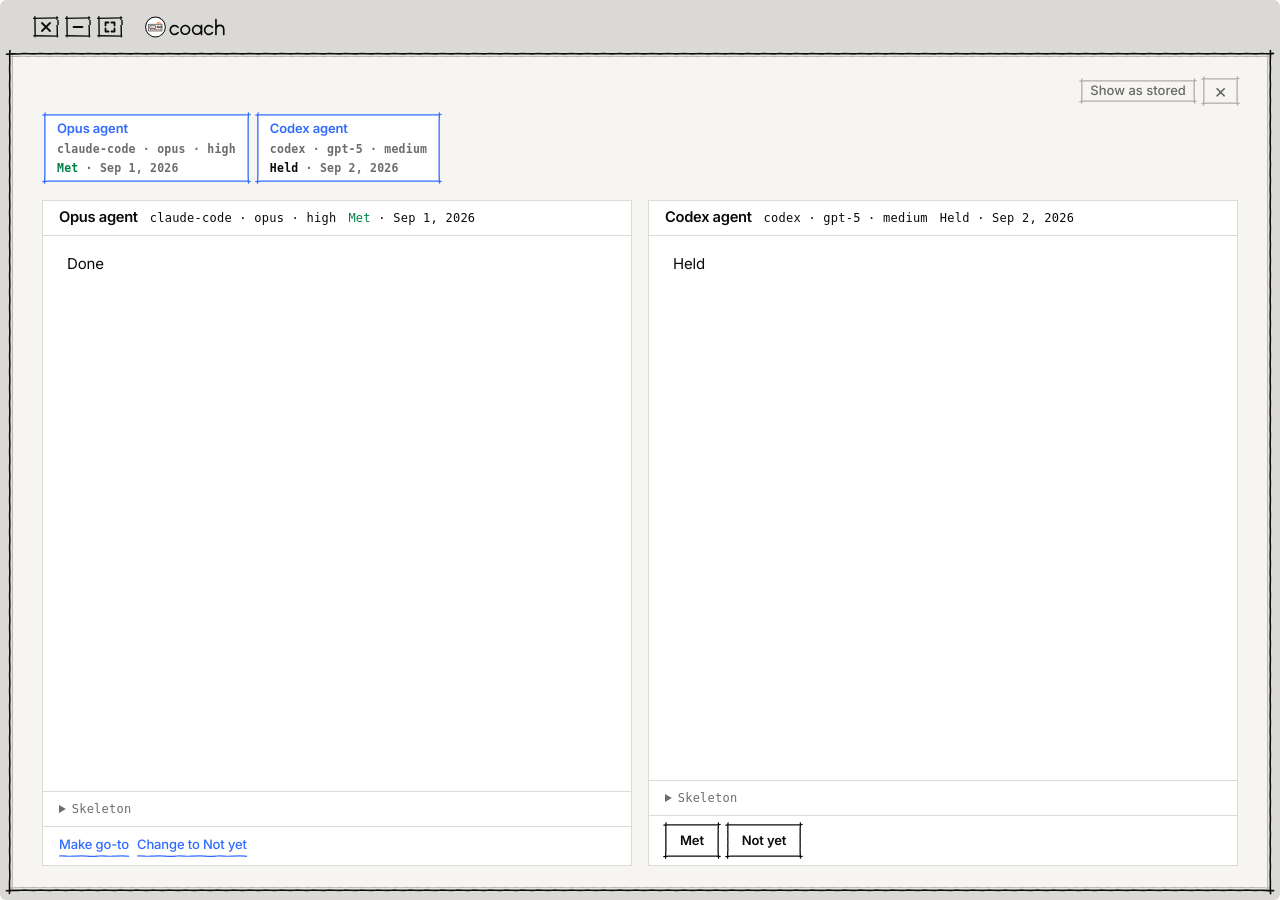
Test: CompareView under a strip › Not yet on a held reply records Not met and offers no go-to
The image size is (1280, 900).
Click the button "Not yet": (764, 840) left=727, top=824, right=801, bottom=857
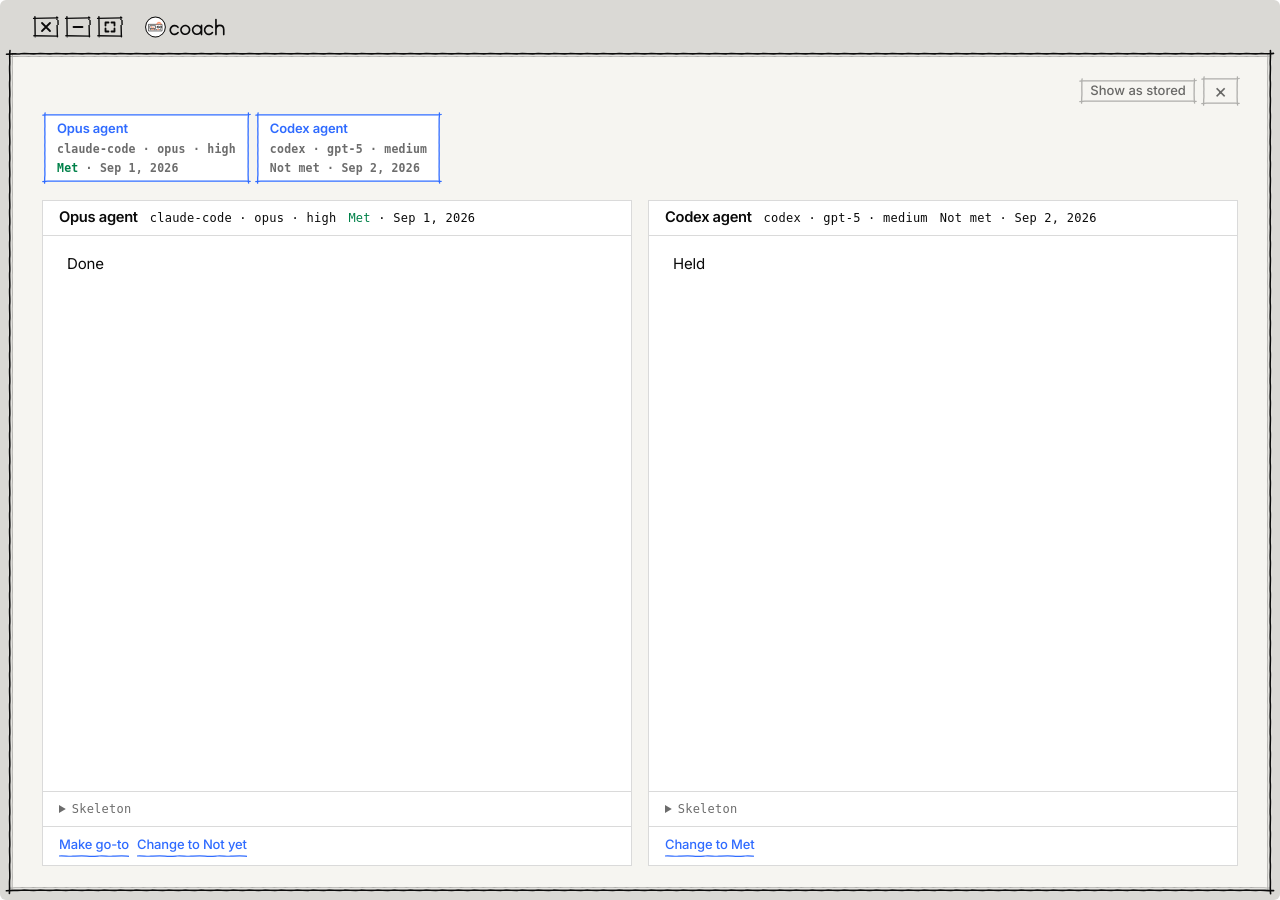
Result: the 2nd text "Not met" is shown at left=940, top=211, right=992, bottom=225
